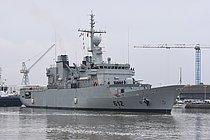MIL_Ship: (19, 29, 187, 115)
